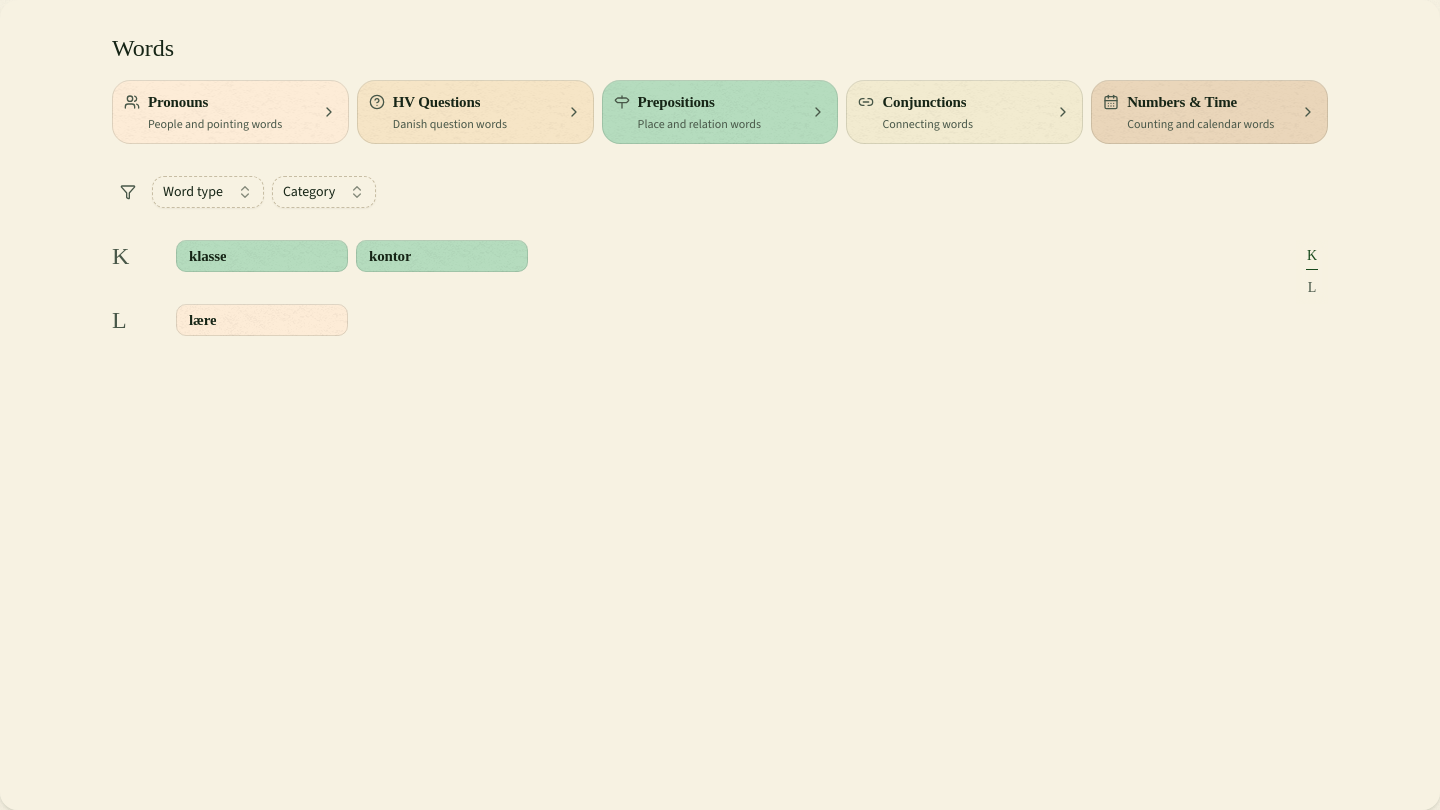
Test case: App wordbank filters › requires all selected categories and combines them with selected word type
Click the button "Category".
click(324, 192)  # box top-left (272, 176), bottom-right (376, 208)
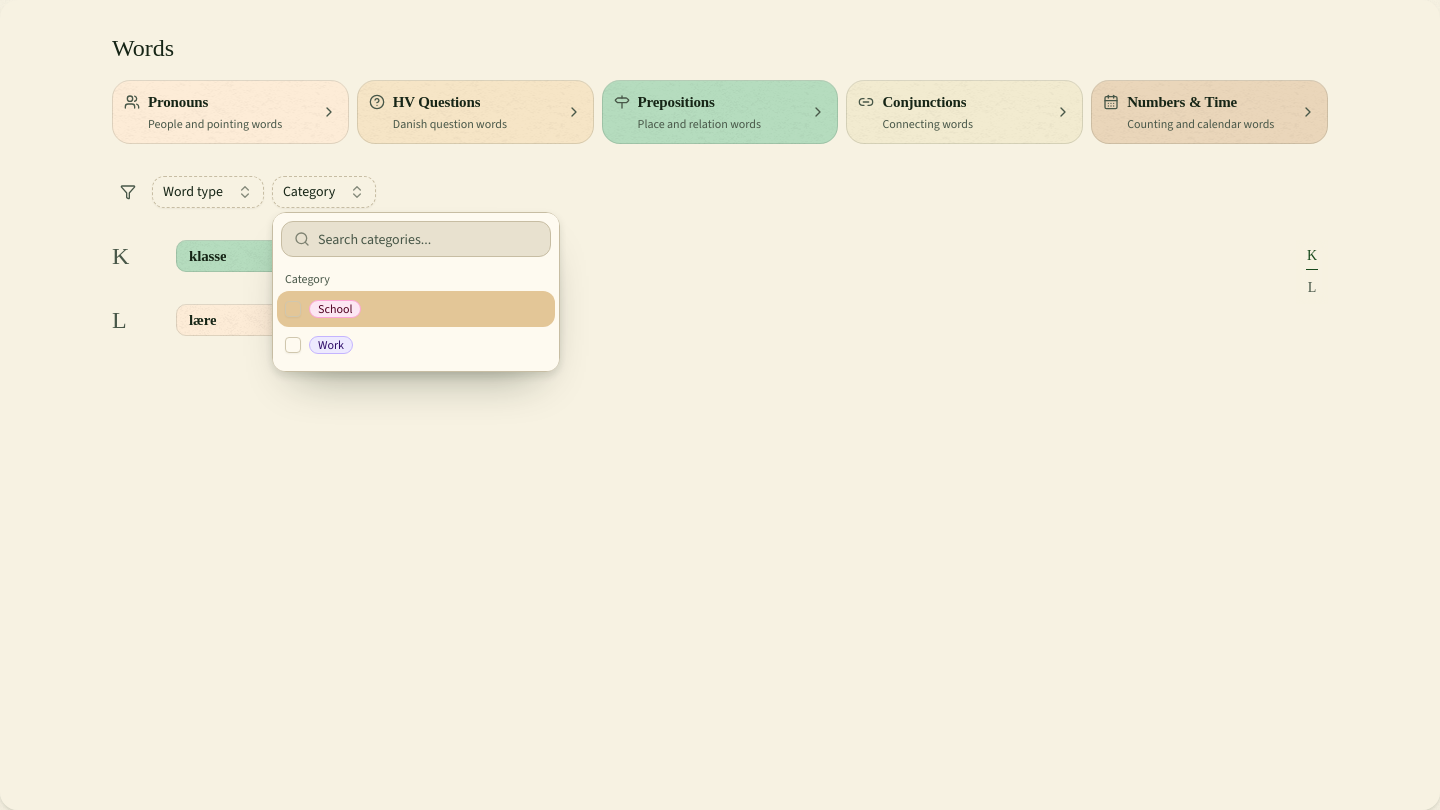
Click the option "School".
click(335, 309)  # box top-left (277, 291), bottom-right (555, 327)
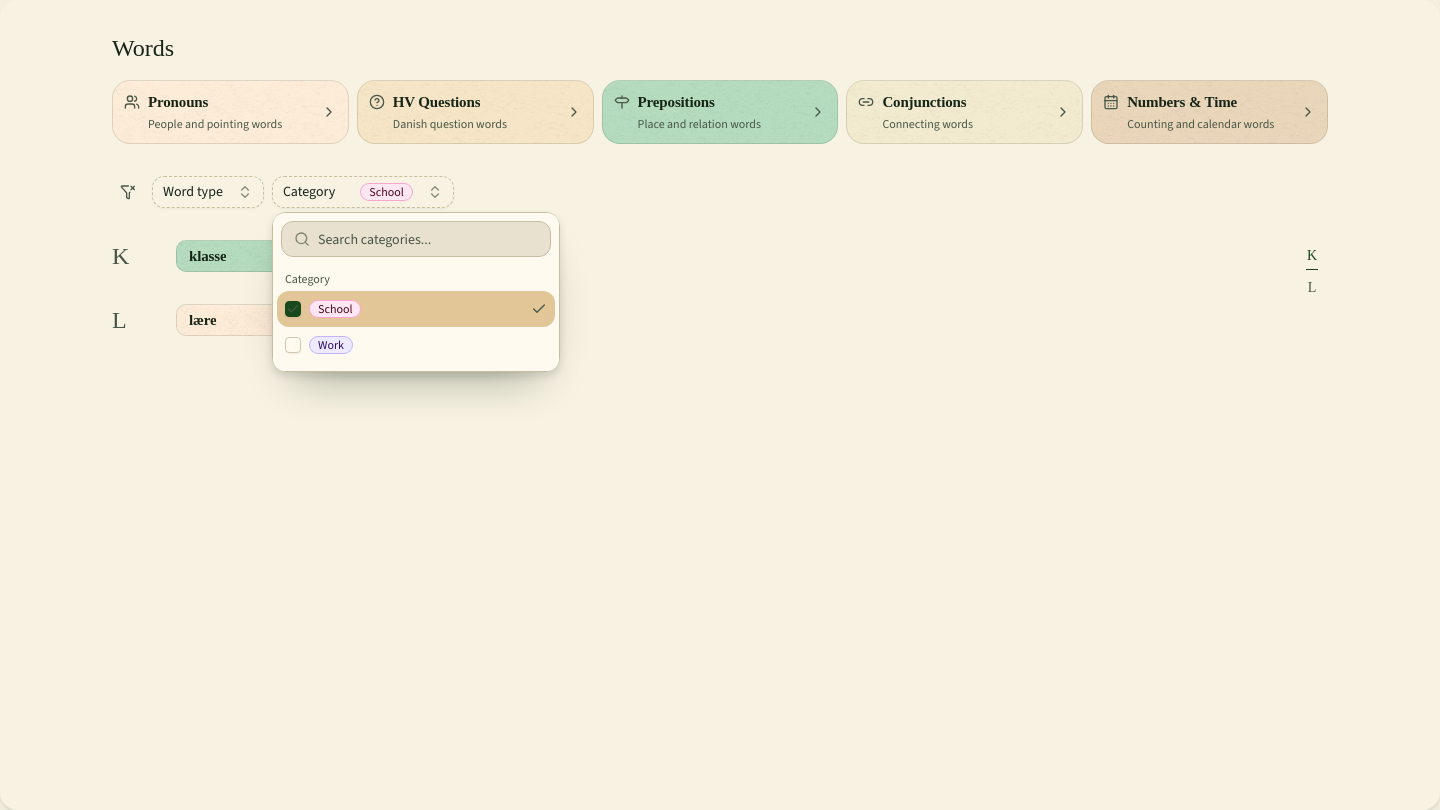
Click the option "Work".
click(319, 345)  # box top-left (285, 336), bottom-right (353, 354)
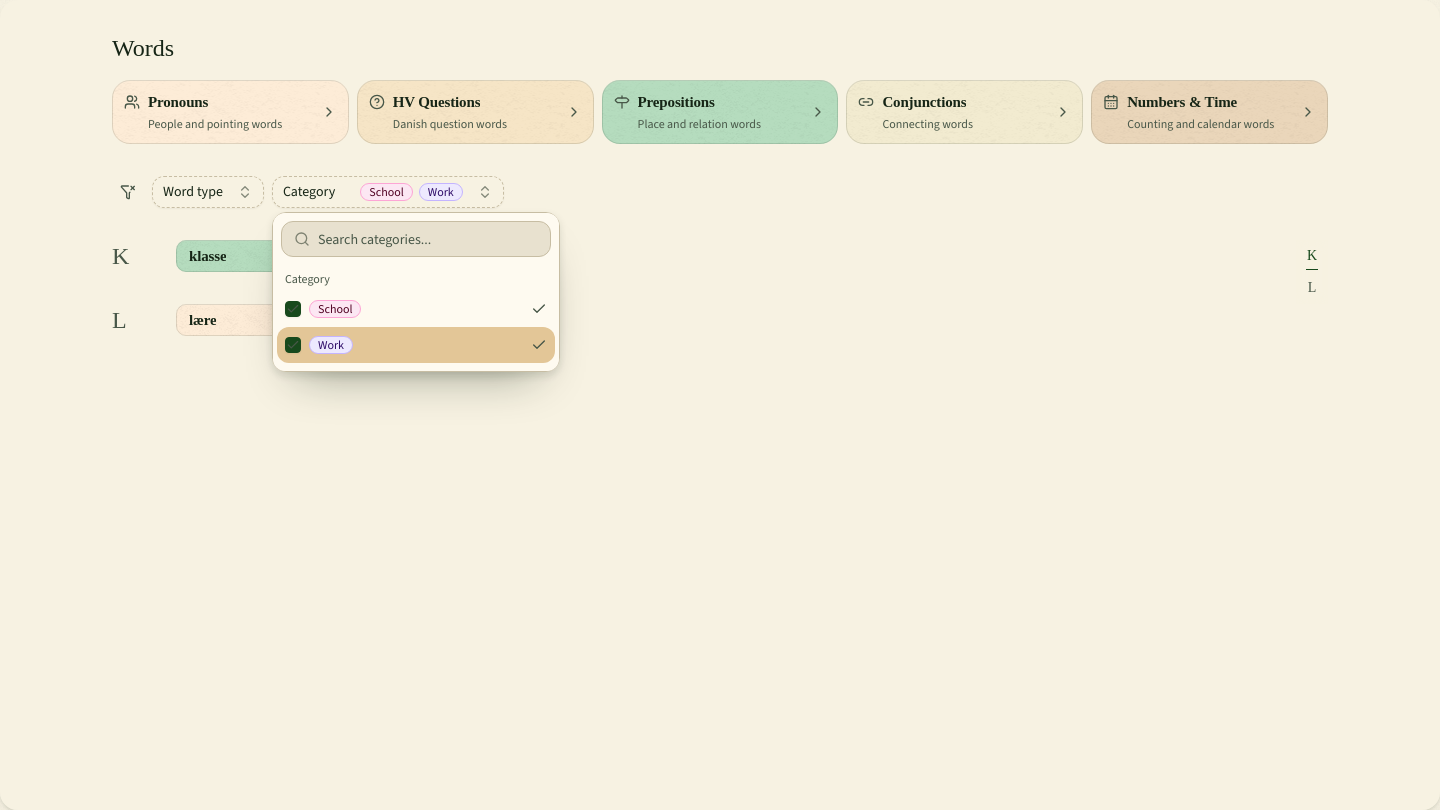
Expected: the button "lære" is shown, top-left (176, 304), bottom-right (348, 336)
Expected: the button "klasse" is shown, top-left (176, 240), bottom-right (348, 272)
Click the button "Word type".
click(208, 192)  # box top-left (152, 176), bottom-right (264, 208)
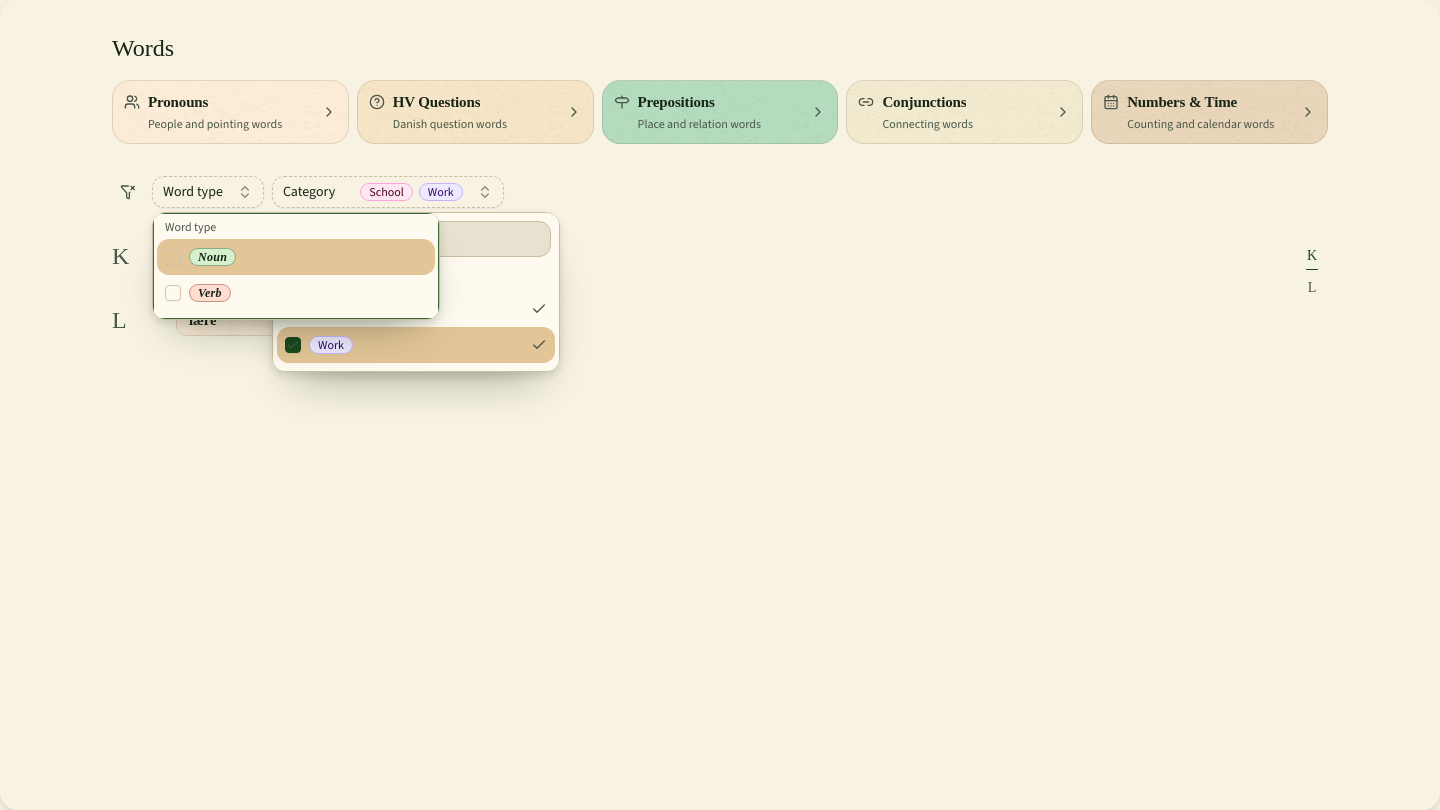
Click the option "Verb".
click(198, 293)  # box top-left (165, 284), bottom-right (231, 302)
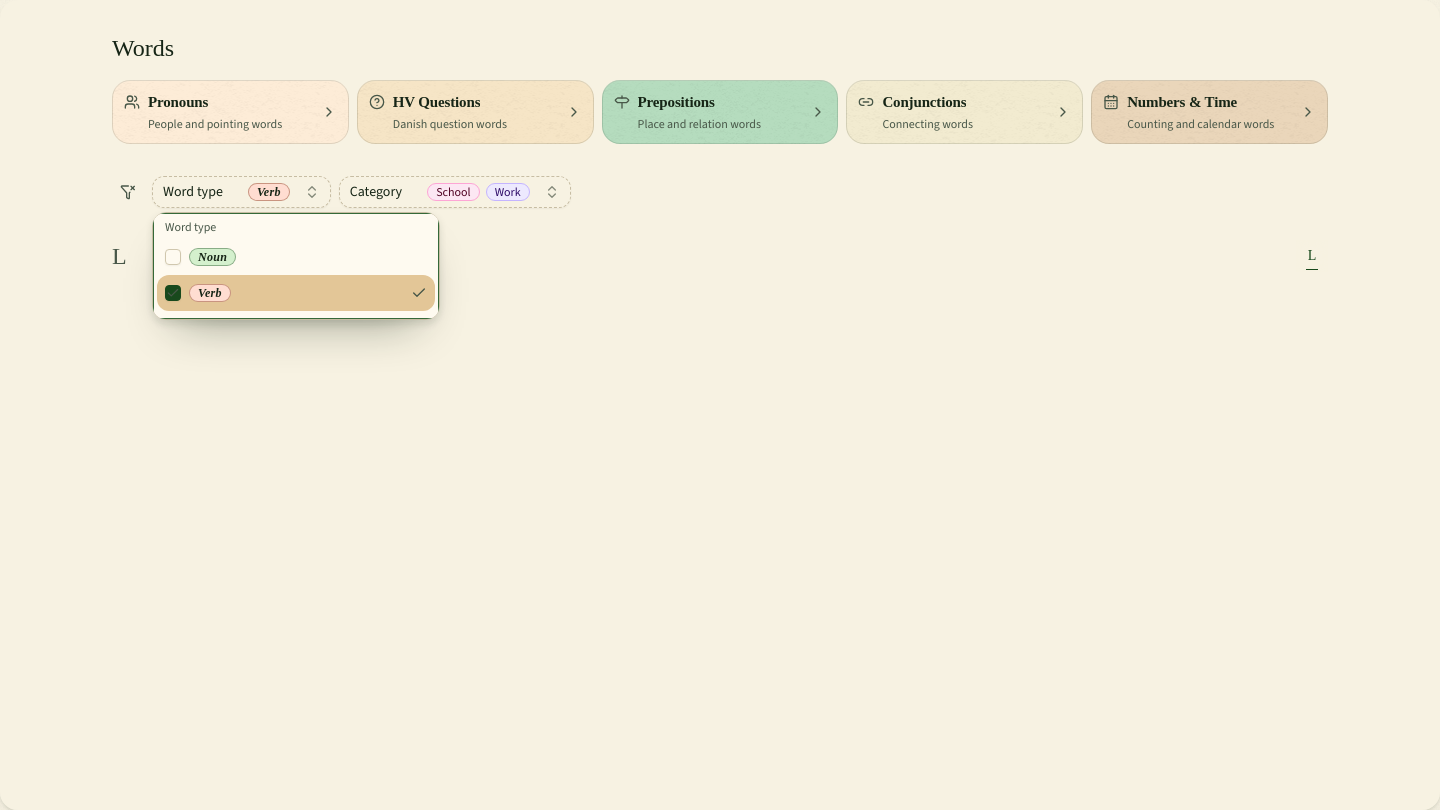
Expected: the button "lære" is shown, top-left (176, 240), bottom-right (348, 272)
Now the button "klasse" is gone
